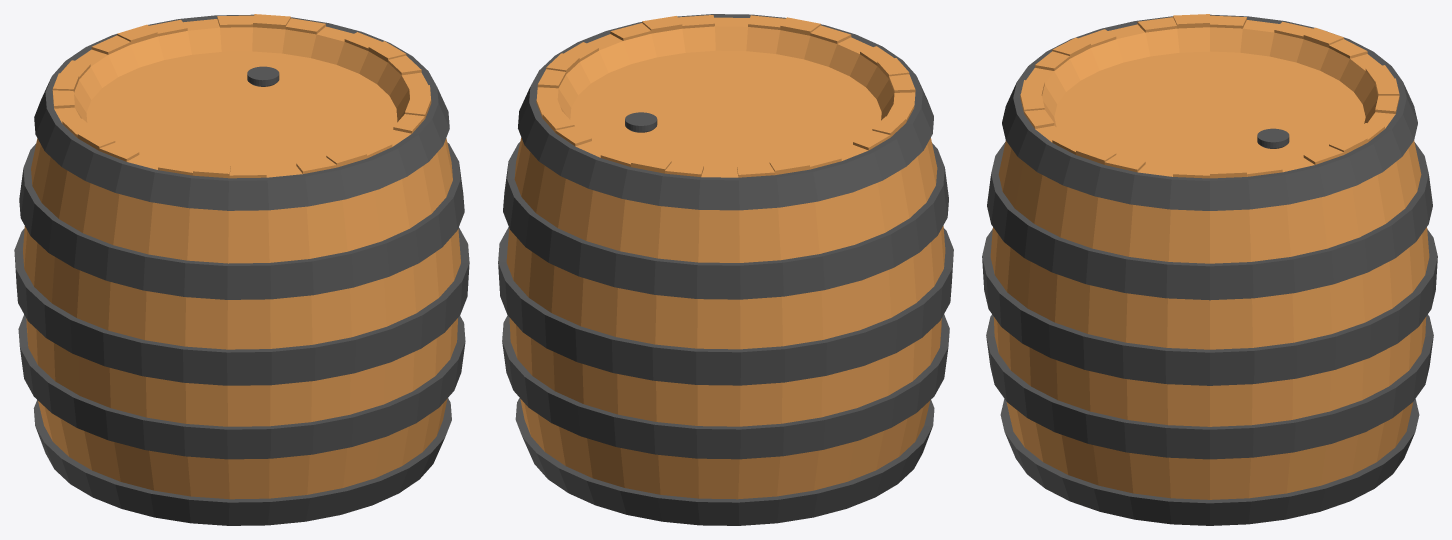
Rendered from Fass .fbx.
The picture shows the model from 3 angles, left to right: view 1: azimuth 30°, elevation 25°; view 2: azimuth 150°, elevation 25°; view 3: azimuth 270°, elevation 25°; orthographic projection.
Parts seen in each view (by area): view 1: Cylinder; view 2: Cylinder; view 3: Cylinder.
Boxes of the visible parts, x1,y1,x2,y2 form: Cylinder: (14, 14, 469, 525); Cylinder: (498, 14, 953, 525); Cylinder: (982, 14, 1437, 525).
Size of the model in its own units: 241 by 203 by 241.
